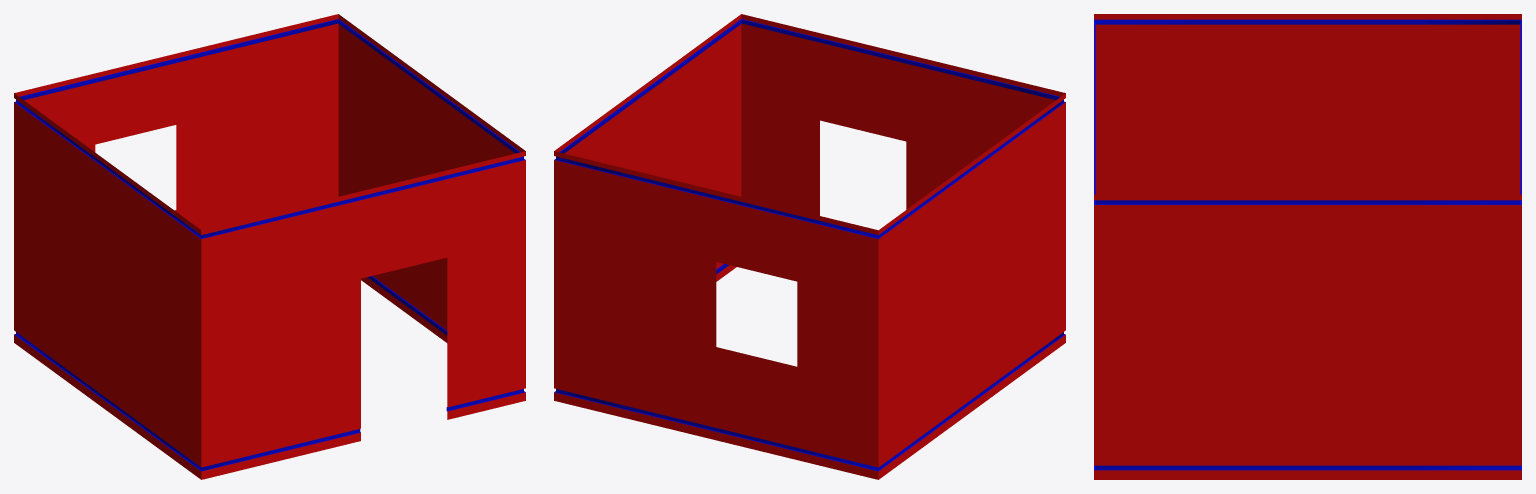
Rendered from BedroomWalls.fbx.
3 views of the same model, side by side, from view 1: azimuth 30°, elevation 25°; view 2: azimuth 150°, elevation 25°; view 3: azimuth 270°, elevation 25° (orthographic). The views are drawn at different scales.
Parts seen in each view (by area): view 1: Wall10; view 2: Wall10; view 3: Wall10.
Part boxes in pixels (<box>): Wall10: <box>14,14,525,479</box>; Wall10: <box>554,14,1065,479</box>; Wall10: <box>1094,14,1521,479</box>.
Size of the model in its own units: 400 by 294 by 400.
